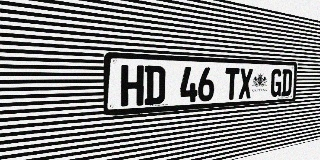4: (180, 66, 198, 103)
6: (198, 67, 215, 102)
D: (144, 66, 165, 105), (281, 69, 292, 96)
G: (270, 69, 282, 97)
H: (121, 65, 144, 107)
T: (224, 68, 239, 100)
X: (238, 68, 253, 99)
